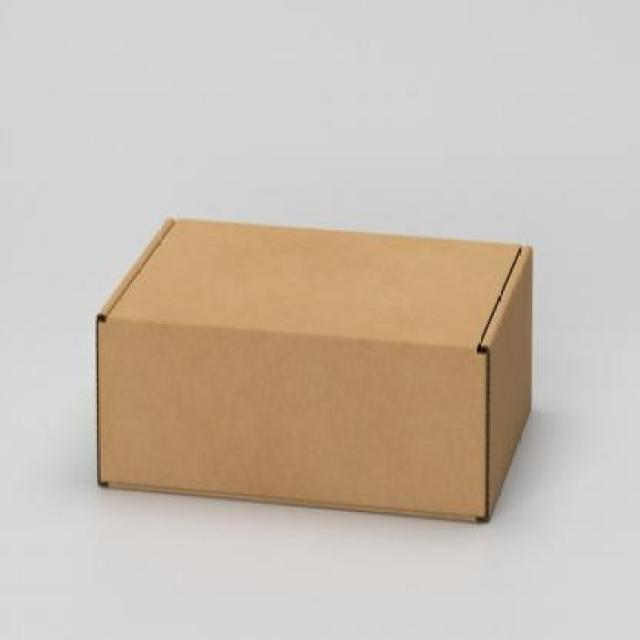box: (80, 198, 548, 532)
